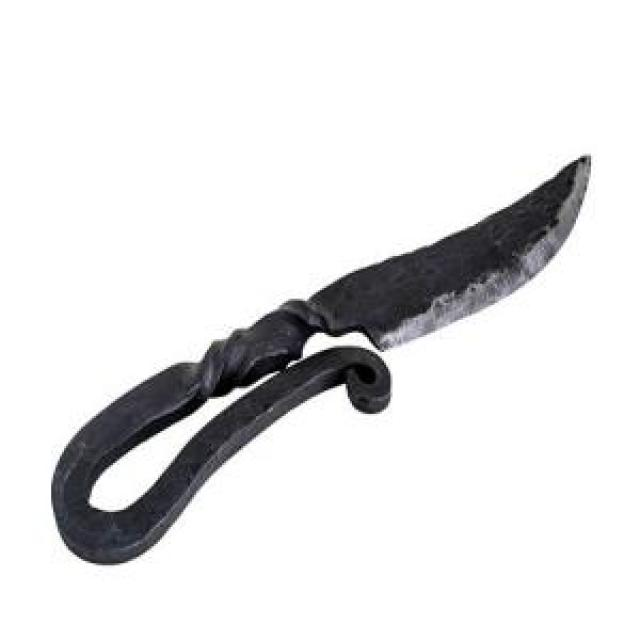knife: (51, 147, 595, 564)
